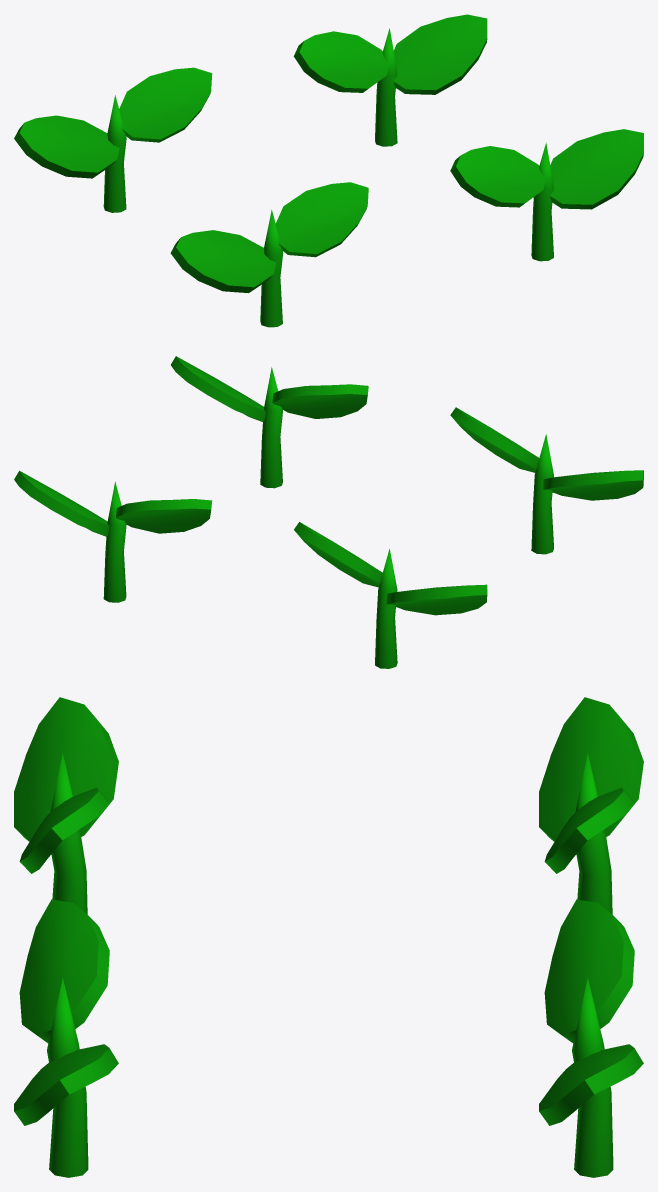
The model's file is Farm_Crop_Sunflower_Step_01.fbx.
The picture shows the model from 3 angles, top to bottom: view 1: azimuth 30°, elevation 25°; view 2: azimuth 150°, elevation 25°; view 3: azimuth 270°, elevation 25°; orthographic projection. The views are drawn at different scales.
Visible parts, largest first — view 1: Farm_Crop_Sunflower_Step_01; view 2: Farm_Crop_Sunflower_Step_01; view 3: Farm_Crop_Sunflower_Step_01.
Boxes of the visible parts, x1=… form: Farm_Crop_Sunflower_Step_01: x1=14, y1=14, x2=643, y2=327; Farm_Crop_Sunflower_Step_01: x1=14, y1=356, x2=643, y2=668; Farm_Crop_Sunflower_Step_01: x1=14, y1=697, x2=643, y2=1177.
Size of the model in its own units: 174 by 42.24 by 120.
